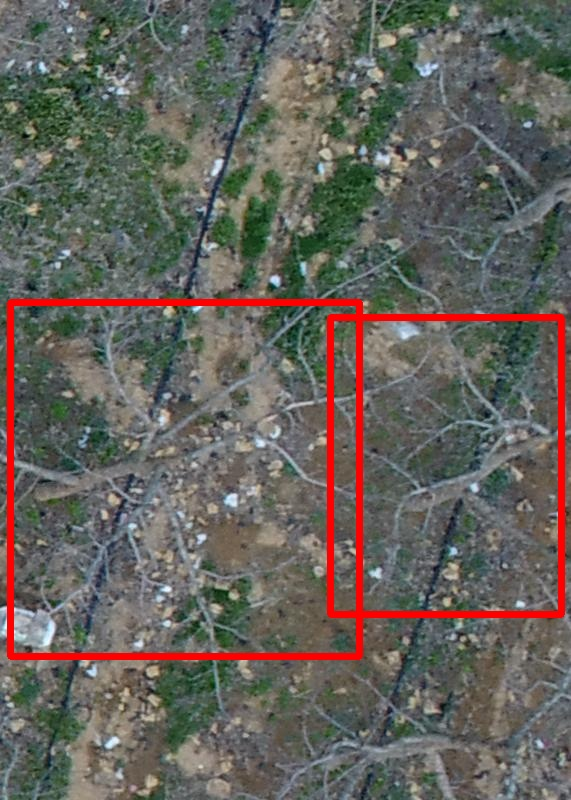apple: (10, 302, 359, 656), (330, 317, 561, 614)
